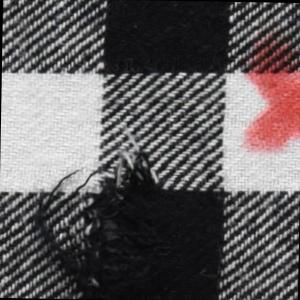Damage: (26, 135, 190, 300)
Stain: (232, 31, 300, 156)
